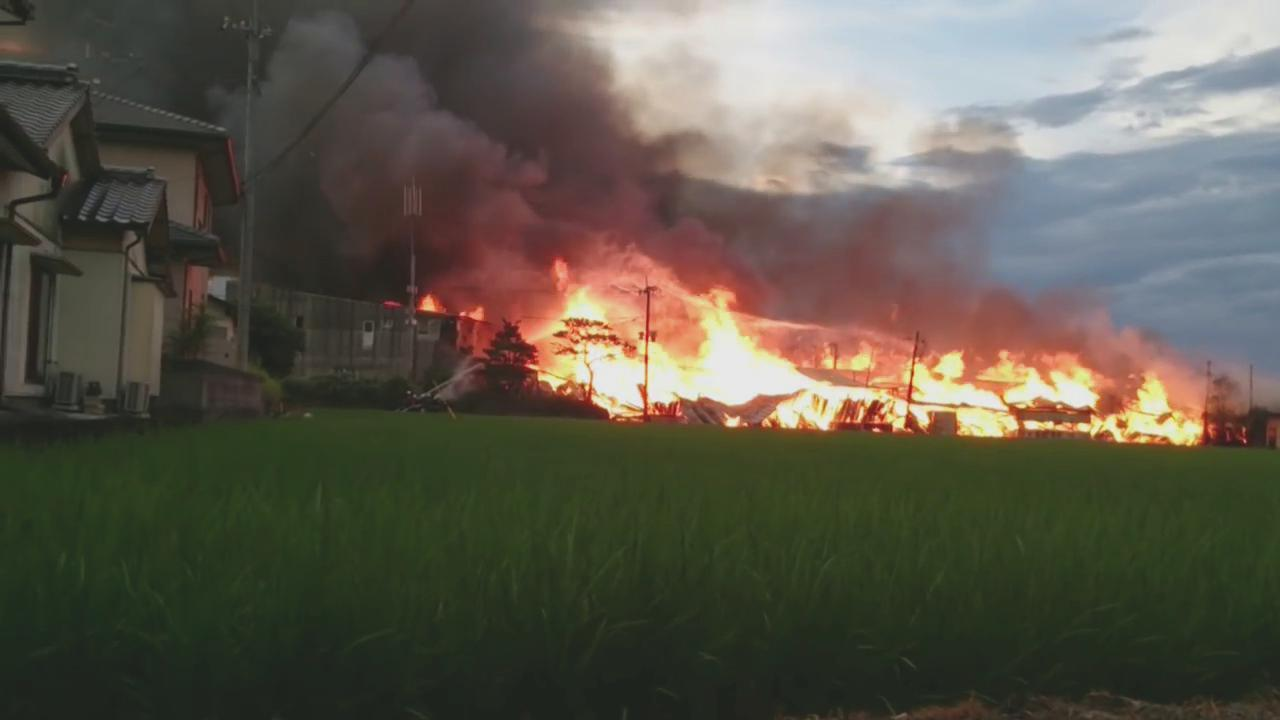Fire: (534, 262, 1205, 445), (417, 294, 448, 318), (461, 304, 483, 322)
